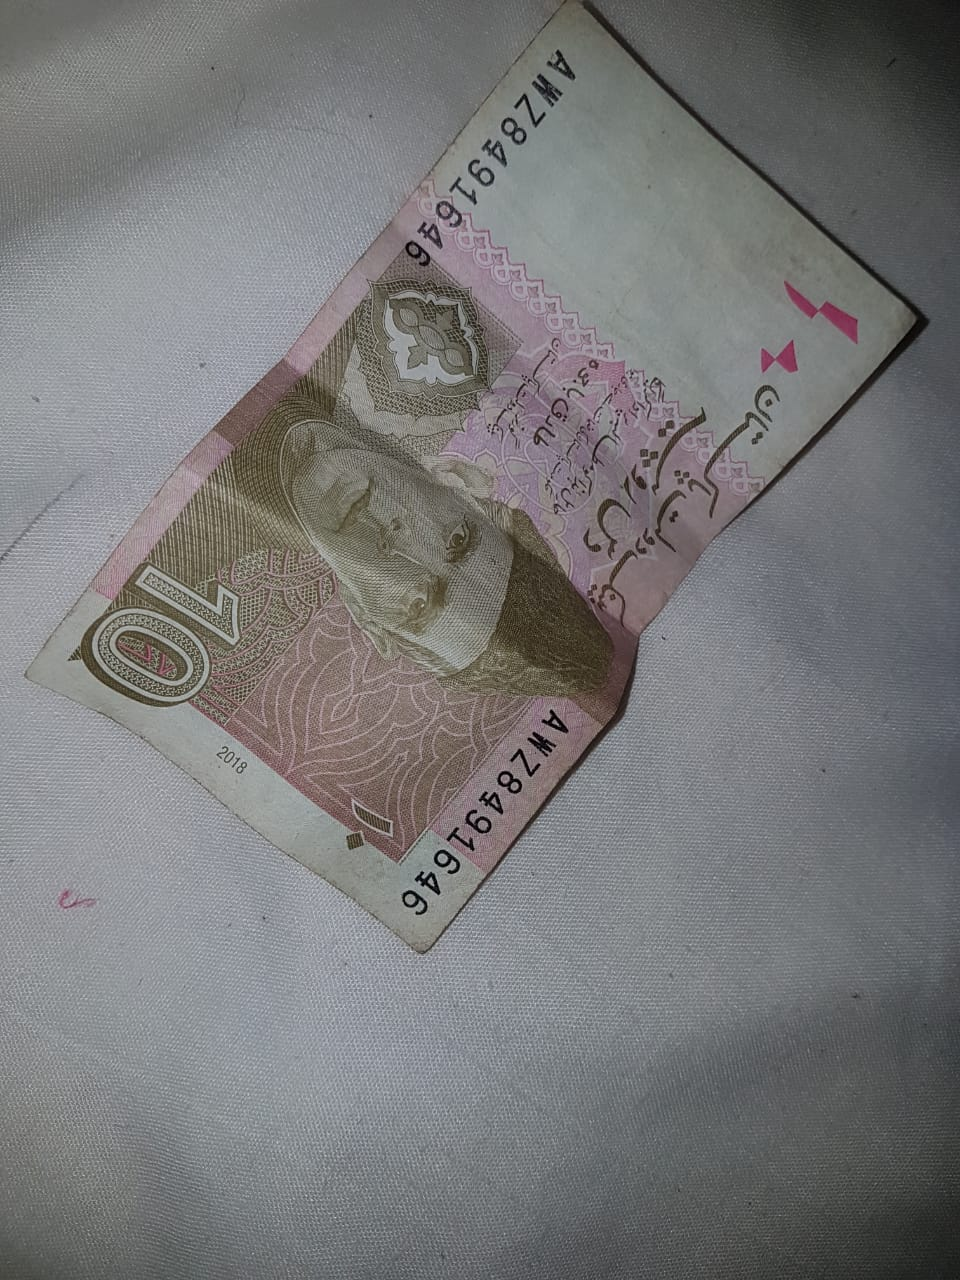10 rupee: (28, 30, 948, 948)
